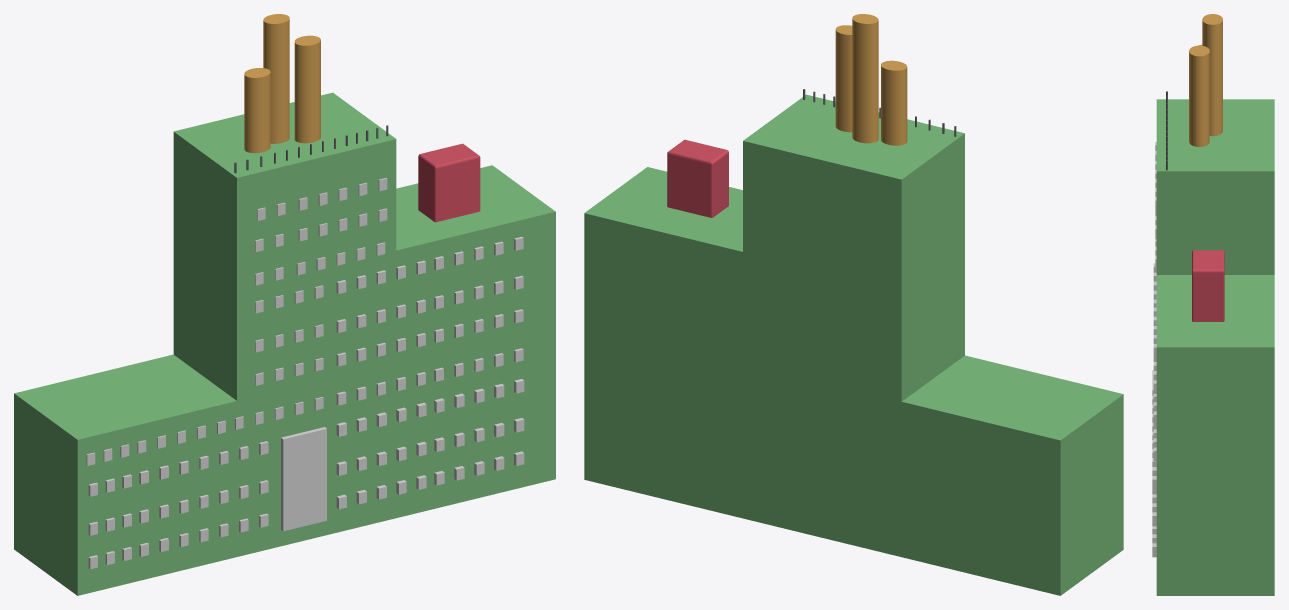
The model's file is task.glb.
3 views of the same model, side by side, from view 1: azimuth 30°, elevation 25°; view 2: azimuth 150°, elevation 25°; view 3: azimuth 270°, elevation 25° (orthographic). The views are drawn at different scales.
Parts seen in each view (by area): view 1: Mesh_Mesh_head_geo.001_lambert2SG.001; view 2: Mesh_Mesh_head_geo.001_lambert2SG.001; view 3: Mesh_Mesh_head_geo.001_lambert2SG.001.
Boxes of the visible parts, box(x1,y1,x2,y2) form: Mesh_Mesh_head_geo.001_lambert2SG.001: box(14, 14, 555, 595); Mesh_Mesh_head_geo.001_lambert2SG.001: box(584, 14, 1123, 595); Mesh_Mesh_head_geo.001_lambert2SG.001: box(1152, 14, 1274, 595).
Bounding box in the file's own units: 103 × 103 × 24.61.
